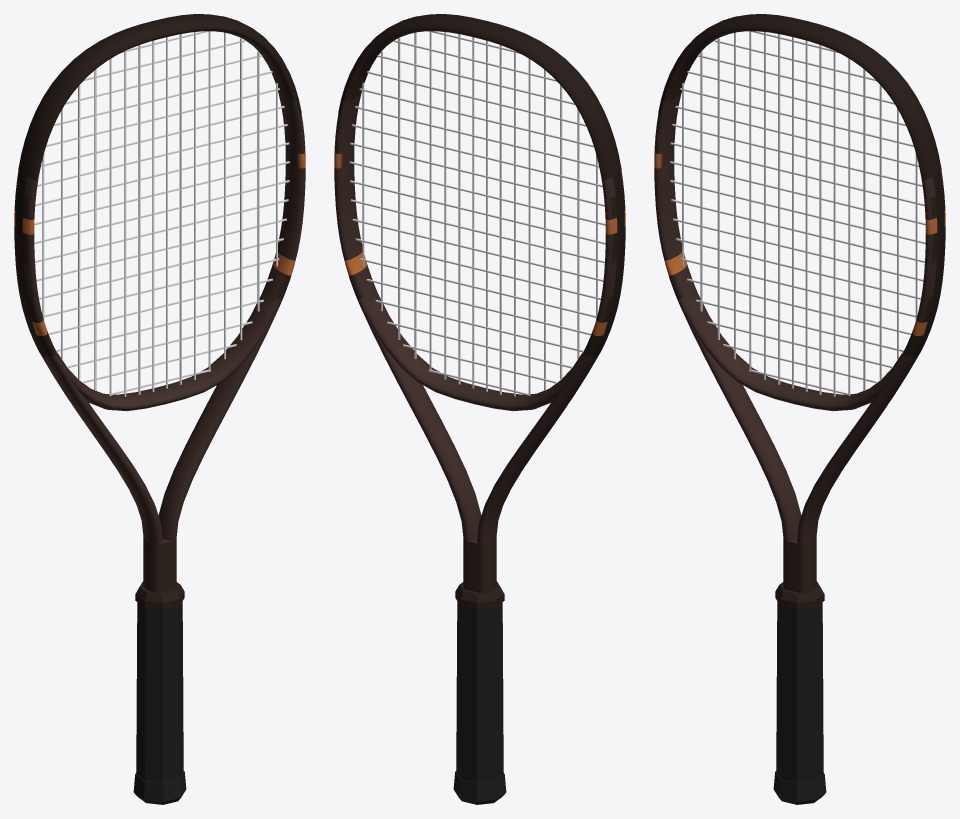
File: yonex-ezone-100--espresso-brown.glb
3 renders of one model, left to right at view 1: azimuth 30°, elevation 25°; view 2: azimuth 150°, elevation 25°; view 3: azimuth 330°, elevation 25°, orthographic.
Visible parts, largest first — view 1: frame, strings_mains, strings_crosses, grip, bumper, grommets, butt_cap, collar; view 2: frame, strings_mains, strings_crosses, grip, bumper, grommets, butt_cap, collar; view 3: frame, strings_mains, strings_crosses, grip, bumper, grommets, butt_cap, collar.
Boxes of the visible parts, x1,y1,x2,y2 form: frame: (14,28,305,592); strings_mains: (42,31,277,396); strings_crosses: (34,31,289,395); grip: (136,601,183,782); bumper: (18,14,301,179); grommets: (15,172,46,357); butt_cap: (133,771,186,804); collar: (135,581,184,609); frame: (334,28,625,592); strings_mains: (362,32,597,396); strings_crosses: (349,31,605,395); grip: (456,601,503,782); bumper: (338,14,621,179); grommets: (593,172,624,357); butt_cap: (453,771,506,804); collar: (455,581,504,609); frame: (654,28,945,592); strings_mains: (682,31,917,396); strings_crosses: (670,31,925,395); grip: (776,601,823,782); bumper: (658,14,941,179); grommets: (913,172,944,357); butt_cap: (773,771,826,804); collar: (775,581,824,609).
Size of the model in its own units: 0.2636 by 0.6861 by 0.0396.
